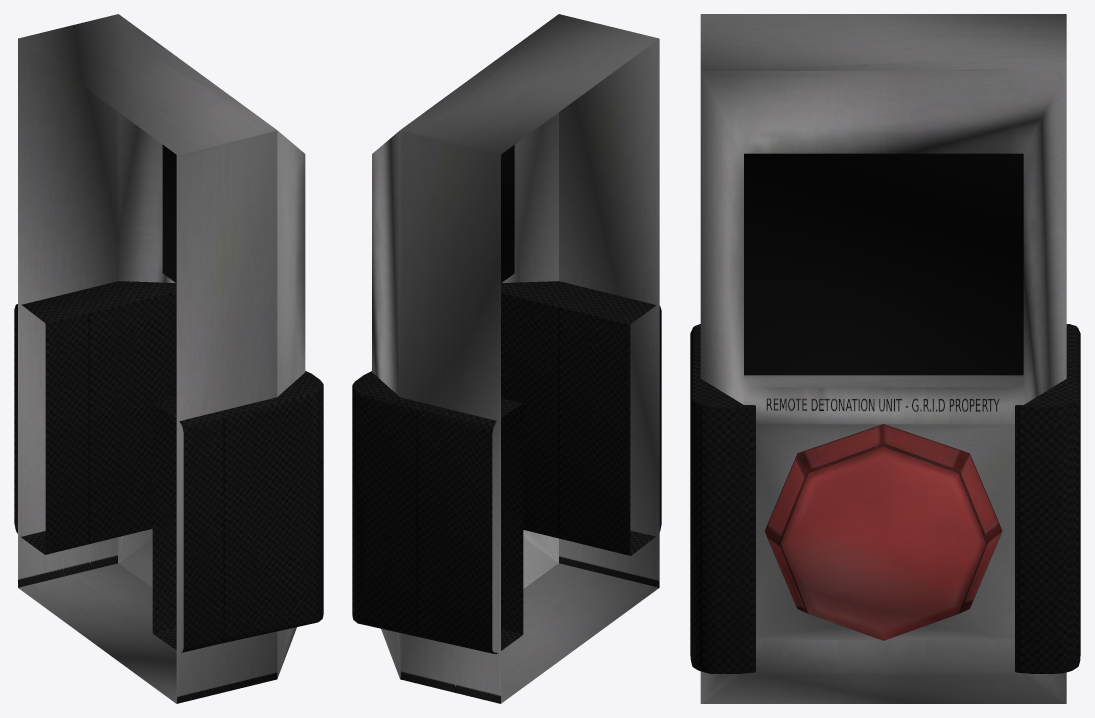
Rendered from rdu.glb.
3 renders of one model, left to right at view 1: azimuth 30°, elevation 25°; view 2: azimuth 150°, elevation 25°; view 3: azimuth 270°, elevation 25°, orthographic. The views are drawn at different scales.
Visible parts, largest first — view 1: Mesh_MatD3D01_0, Cube; view 2: Mesh_MatD3D01_0, Cube; view 3: Mesh_MatD3D01_0, Cube.
Boxes of the visible parts, bbox=[...] form: Mesh_MatD3D01_0: bbox=[18, 14, 305, 703]; Cube: bbox=[14, 281, 323, 652]; Mesh_MatD3D01_0: bbox=[372, 14, 659, 703]; Cube: bbox=[352, 281, 661, 653]; Mesh_MatD3D01_0: bbox=[700, 14, 1066, 703]; Cube: bbox=[690, 324, 1080, 673].
Bounding box in the file's own units: 0.0459 × 0.1419 × 0.0793.
Materials: 2 (2 with a texture image).
